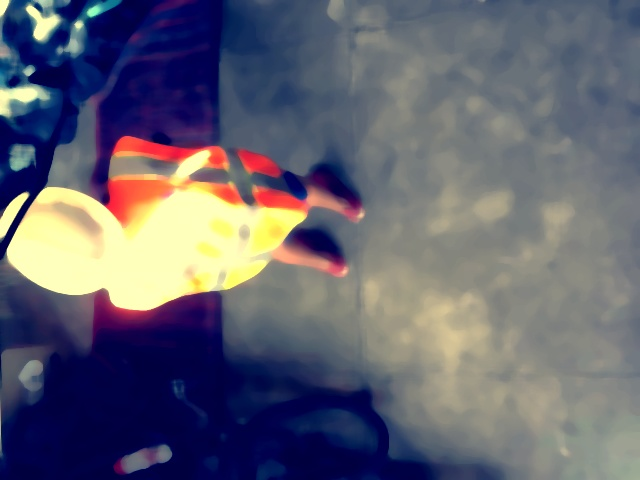eight: (68, 256, 105, 291)
